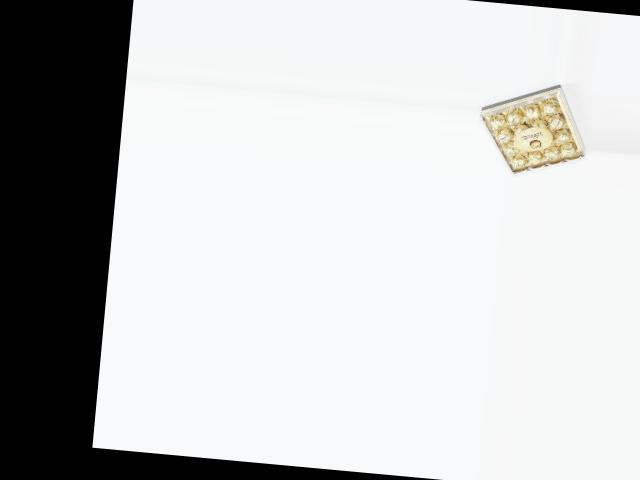chocolate: (472, 75, 593, 182)
